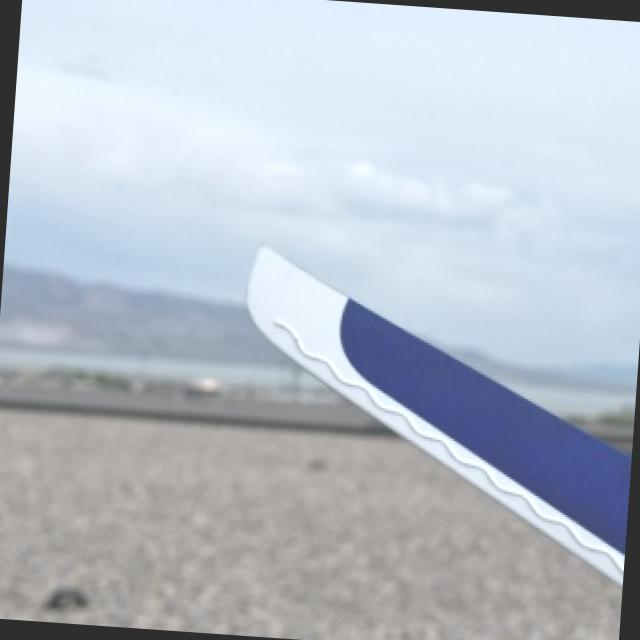healthy: (250, 245, 627, 583)
